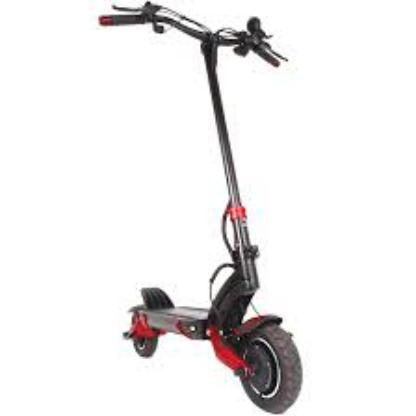bike: (122, 200, 304, 415)
